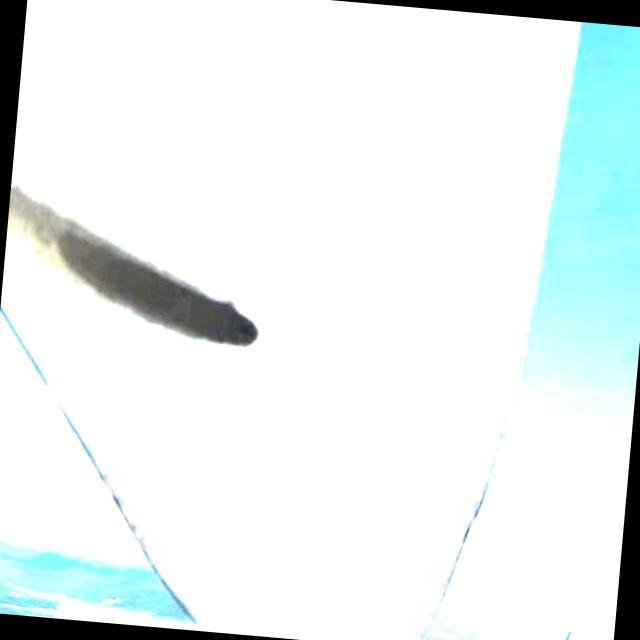crack: (0, 184, 276, 359)
